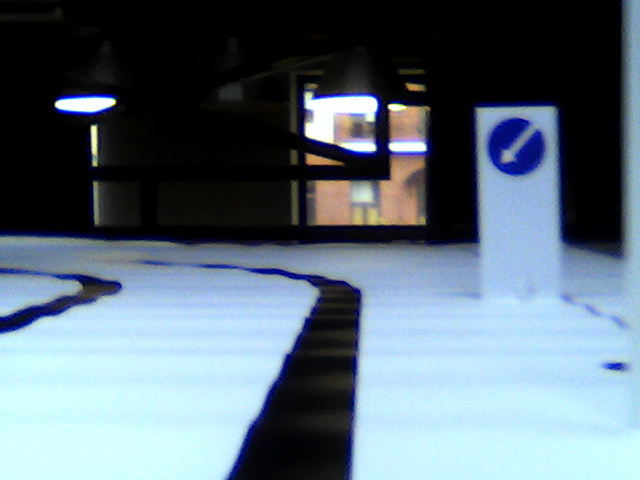prep: (488, 114, 544, 178)
